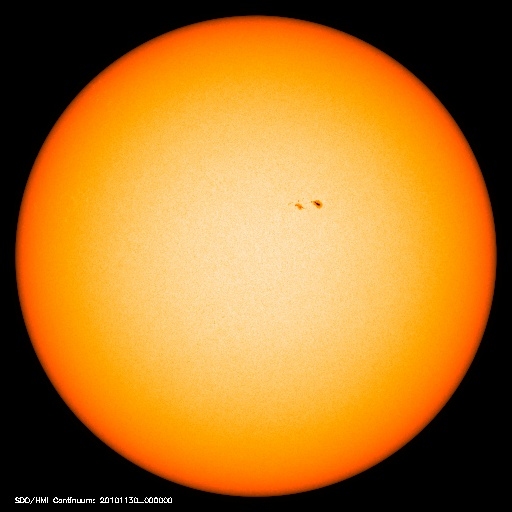sunspot: (278, 190, 335, 218)
